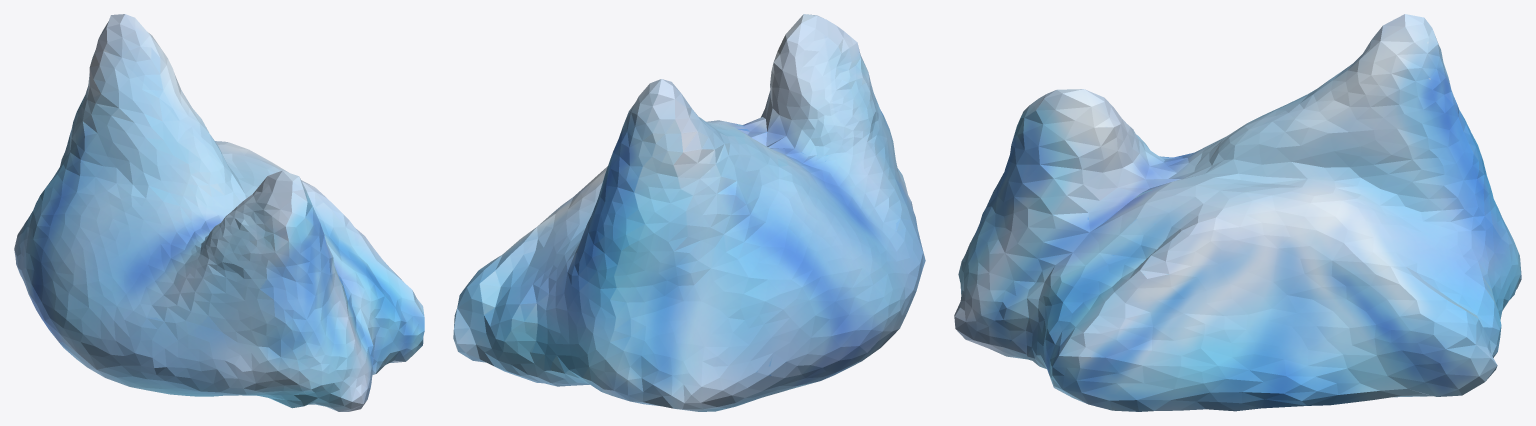
File: iceberg1melt.fbx
3 renders of one model, left to right at view 1: azimuth 30°, elevation 25°; view 2: azimuth 150°, elevation 25°; view 3: azimuth 270°, elevation 25°, orthographic. The views are drawn at different scales.
Parts seen in each view (by area): view 1: Icosphere; view 2: Icosphere; view 3: Icosphere.
Part boxes in pixels (left/top/right/bottom): Icosphere: left=14, top=14, right=424, bottom=411; Icosphere: left=453, top=14, right=925, bottom=411; Icosphere: left=954, top=14, right=1521, bottom=411.
Size of the model in its own units: 3390 by 3211 by 4965.
